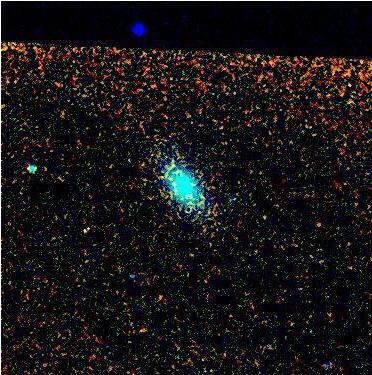star: (73, 215, 103, 245)
